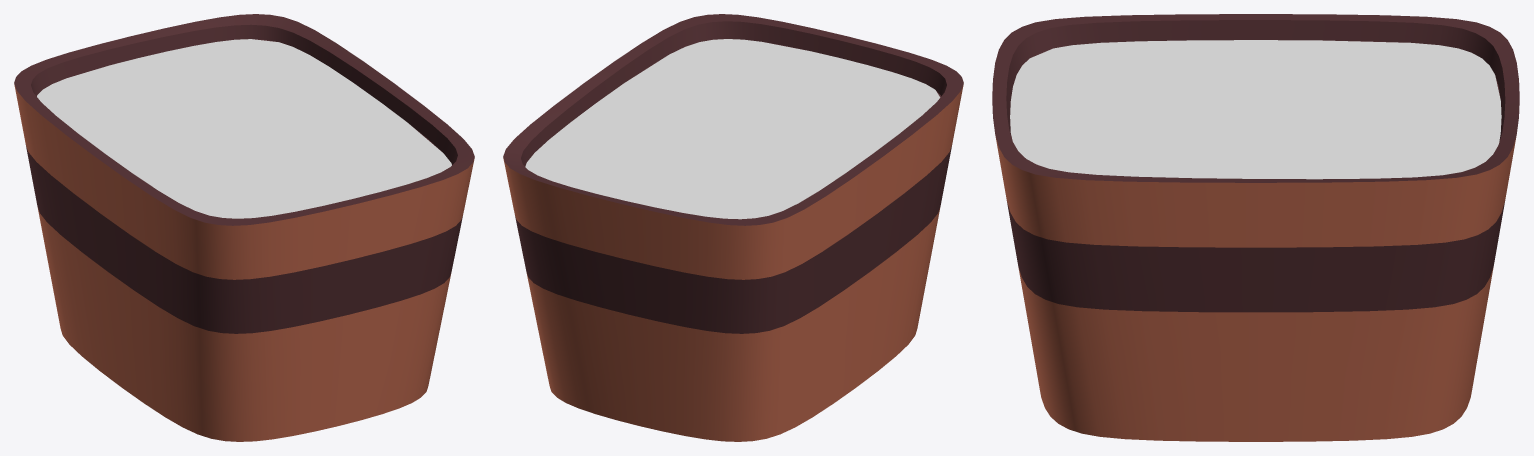
File: Ground_update.fbx
3 renders of one model, left to right at view 1: azimuth 30°, elevation 25°; view 2: azimuth 150°, elevation 25°; view 3: azimuth 270°, elevation 25°, orthographic. The views are drawn at different scales.
Visible parts, largest first — view 1: Box206; view 2: Box206; view 3: Box206.
Part boxes in pixels (bbox=[...]): Box206: bbox=[14, 14, 474, 441]; Box206: bbox=[503, 14, 963, 441]; Box206: bbox=[992, 14, 1519, 441].
Bounding box in the file's own units: 2.59 × 1.96 × 3.42.
